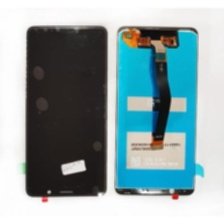phone: (112, 23, 200, 199), (23, 25, 110, 199)
